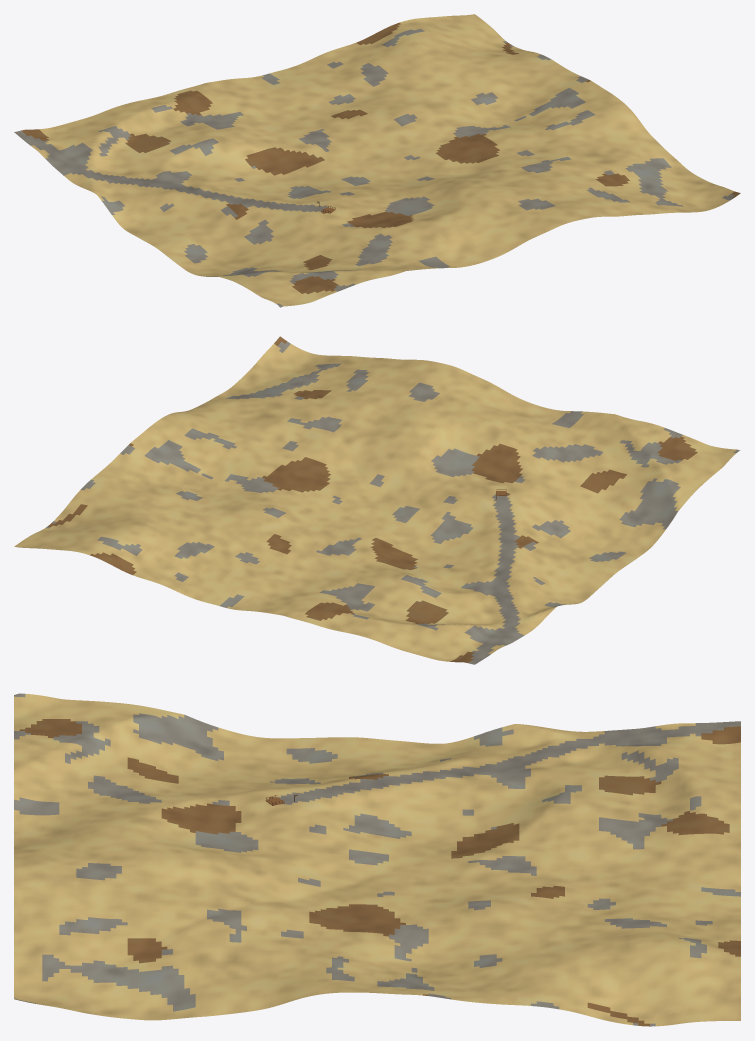
Rendered from chunk_7_7.glb.
3 views of the same model, one above another, from view 1: azimuth 30°, elevation 25°; view 2: azimuth 150°, elevation 25°; view 3: azimuth 270°, elevation 25° (orthographic). The views are drawn at different scales.
Visible parts, largest first — view 1: Surface_Sand, Surface_Gravel, Surface_Dirt; view 2: Surface_Sand, Surface_Gravel, Surface_Dirt; view 3: Surface_Sand, Surface_Gravel, Surface_Dirt.
Boxes of the visible parts, bbox=[...] form: Surface_Sand: bbox=[31, 14, 734, 306]; Surface_Gravel: bbox=[14, 29, 734, 307]; Surface_Dirt: bbox=[21, 22, 740, 293]; Surface_Sand: bbox=[14, 344, 736, 661]; Surface_Gravel: bbox=[46, 341, 740, 664]; Surface_Dirt: bbox=[47, 336, 697, 662]; Surface_Sand: bbox=[14, 693, 740, 1026]; Surface_Gravel: bbox=[14, 693, 740, 1026]; Surface_Dirt: bbox=[15, 719, 740, 1026].
Size of the model in its own units: 256 by 26.74 by 256.
